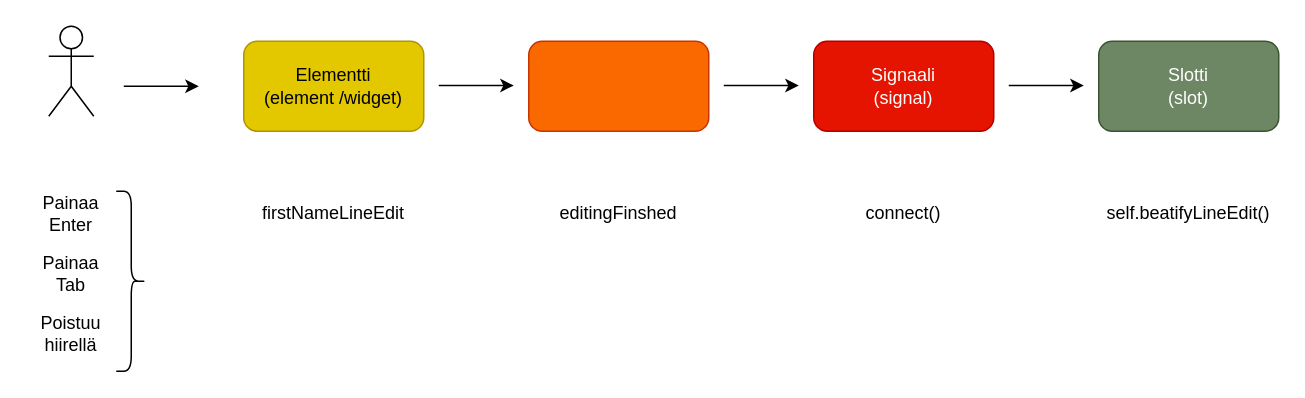
The diagram is 1305 pixels wide and 398 high, and some of its shapes have lost their labels. Each missing label, with the box of its shape:
Käyttäjän toimenpide: (47, 25, 94, 116)
Tapahtuma (event): (527, 40, 709, 131)
